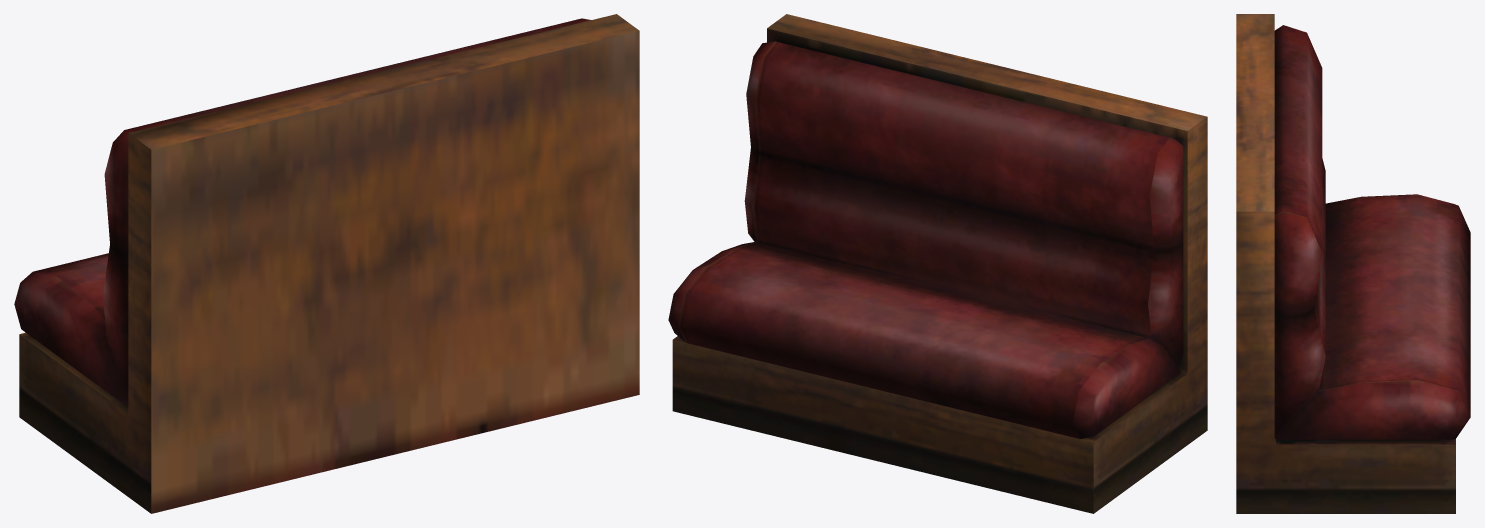
File: booth_single_bench.fbx
3 renders of one model, left to right at view 1: azimuth 30°, elevation 25°; view 2: azimuth 150°, elevation 25°; view 3: azimuth 270°, elevation 25°, orthographic. The views are drawn at different scales.
Visible parts, largest first — view 1: mesh_0; view 2: mesh_0; view 3: mesh_0.
Boxes of the visible parts, x1=… form: mesh_0: x1=14, y1=14, x2=639, y2=513; mesh_0: x1=668, y1=14, x2=1207, y2=513; mesh_0: x1=1236, y1=14, x2=1470, y2=513.
Bounding box in the file's own units: 160 × 114 × 79.88.
1 material, 1 textured.
